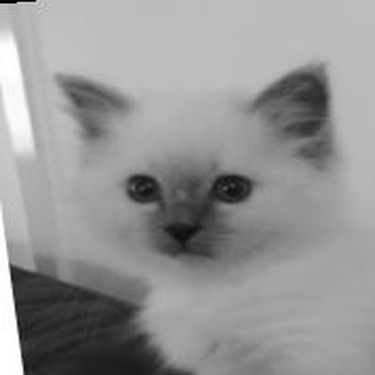cat: (50, 60, 363, 365)
